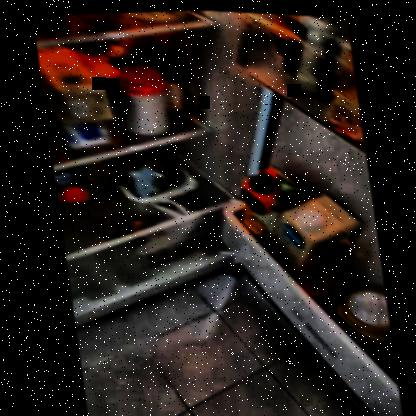broccoli: (111, 150, 193, 203)
milk: (37, 43, 115, 147), (271, 188, 337, 280)
